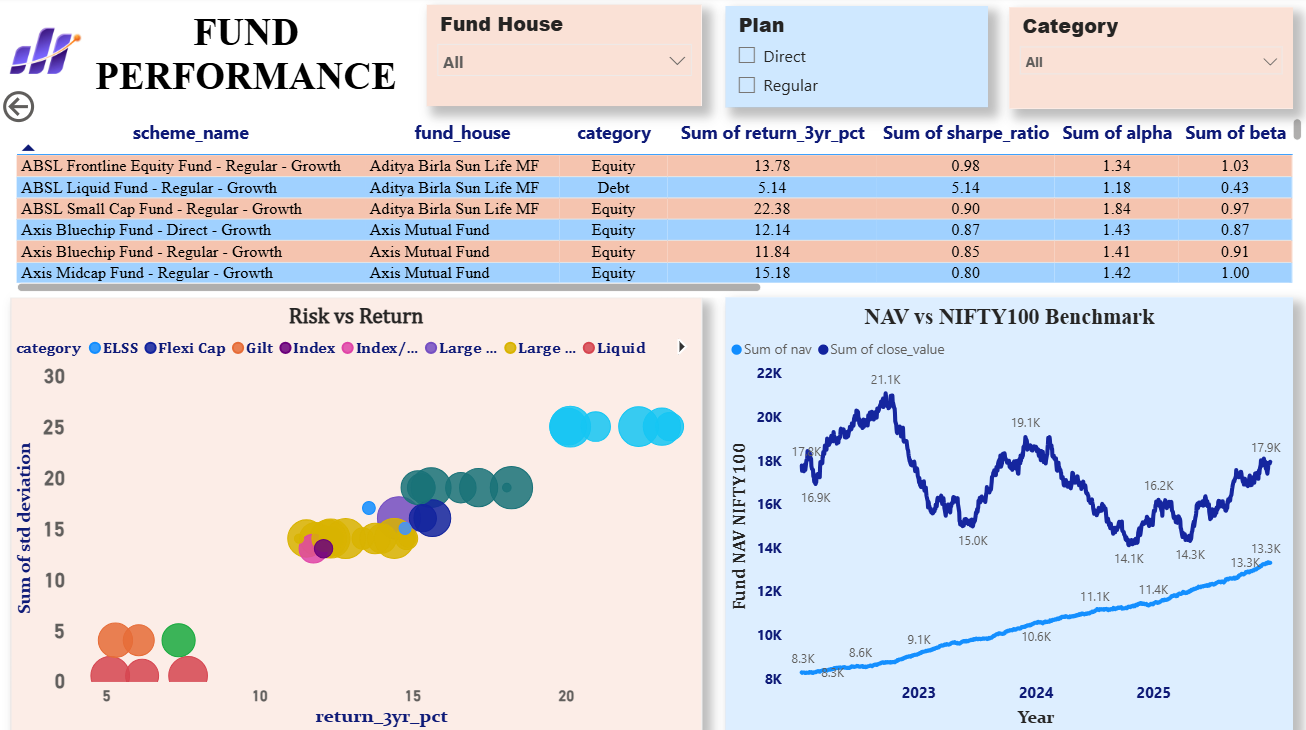

This screenshot's page, from the dashboard's own definition file:
{"tool":"powerbi","page":{"name":"Fund Performance","canvas":[1280,720],"ordinal":1},"visuals":[{"type":"textbox","box":[77,8.6,331.4,117.4],"z":0},{"type":"image","box":[0,0,91.7,107.6],"z":1000},{"type":"scatterChart","title":"Risk vs Return","fields":{"Y":["Sum(07_scheme_performance_clean.std_dev_ann_pct)"],"X":["07_scheme_performance_clean.return_3yr_pct"],"Size":["Sum(07_scheme_performance_clean.aum_crore)"],"Series":["07_scheme_performance_clean.category"]},"box":[12.2,294.7,676.2,425.5],"z":2000},{"type":"tableEx","fields":{"Values":["01_fund_master_clean.scheme_name","01_fund_master_clean.fund_house","01_fund_master_clean.category","Sum(07_scheme_performance_clean.return_3yr_pct)","Sum(07_scheme_performance_clean.sharpe_ratio)","Sum(07_scheme_performance_clean.alpha)","Sum(07_scheme_performance_clean.beta)","Sum(07_scheme_performance_clean.std_dev_ann_pct)","Sum(07_scheme_performance_clean.max_drawdown_pct)","Sum(07_scheme_performance_clean.expense_ratio_pct)","Sum(07_scheme_performance_clean.morningstar_rating)"]},"box":[12.2,114.9,1268.1,179.8],"z":3000},{"type":"actionButton","box":[0,88,100.3,40.4],"z":4000},{"type":"lineChart","title":"NAV vs NIFTY100 Benchmark","fields":{"Category":["Calendar.Date.Variation.Date Hierarchy.Year","Calendar.Date.Variation.Date Hierarchy.Quarter","Calendar.Date.Variation.Date Hierarchy.Month","Calendar.Date.Variation.Date Hierarchy.Day"],"Y":["Sum(02_nav_history_clean.nav)","Sum(10_benchmark_indices_clean.close_value)"]},"box":[711.7,294.7,555.2,425.5],"z":5000},{"type":"slicer","title":"Fund House","fields":{"Values":["01_fund_master_clean.fund_house"]},"box":[419.4,8.6,269,99],"z":6000},{"type":"slicer","title":"Category","fields":{"Values":["07_scheme_performance_clean.category"]},"box":[989.3,11,277.6,99],"z":7000},{"type":"slicer","title":"Plan","fields":{"Values":["07_scheme_performance_clean.plan"]},"box":[711.7,9.8,256.8,99],"z":8000}]}

Visuals, with their boxes in screenshot pixels (x1, y1, x2, y2), scaled from the page's 1280x720 canvas onto the 1306x730 screenshot:
textbox: 79 9 417 128
image: 0 0 94 109
"Risk vs Return" scatterChart: 12 299 702 729
tableEx - 01_fund_master_clean.scheme_name x 01_fund_master_clean.fund_house: 12 116 1305 299
actionButton: 0 89 102 130
"NAV vs NIFTY100 Benchmark" lineChart: 726 299 1293 729
"Fund House" slicer: 428 9 702 109
"Category" slicer: 1009 11 1293 112
"Plan" slicer: 726 10 988 110
